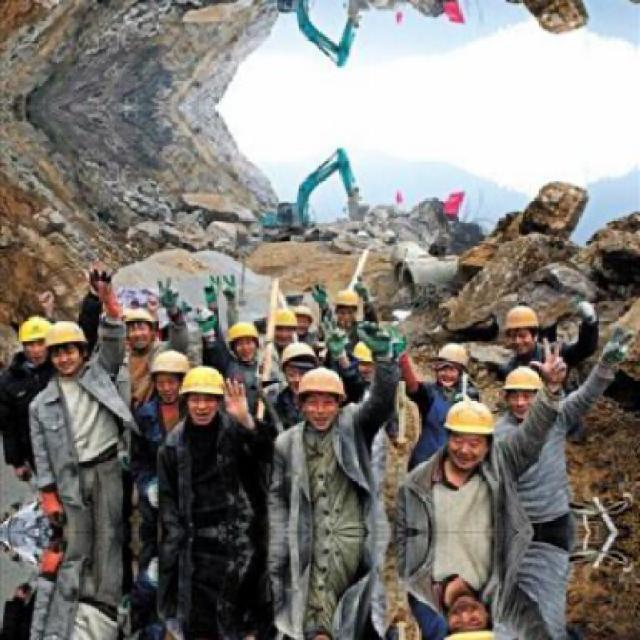helmet: (442, 392, 496, 471), (297, 363, 349, 428), (180, 363, 226, 422), (441, 592, 497, 638), (48, 318, 88, 372), (122, 298, 160, 354), (503, 302, 542, 352), (149, 351, 189, 398), (505, 363, 543, 412), (277, 340, 320, 383), (17, 313, 52, 362), (226, 318, 263, 362), (434, 342, 466, 384), (354, 338, 388, 377), (331, 286, 362, 325), (268, 306, 300, 343)
